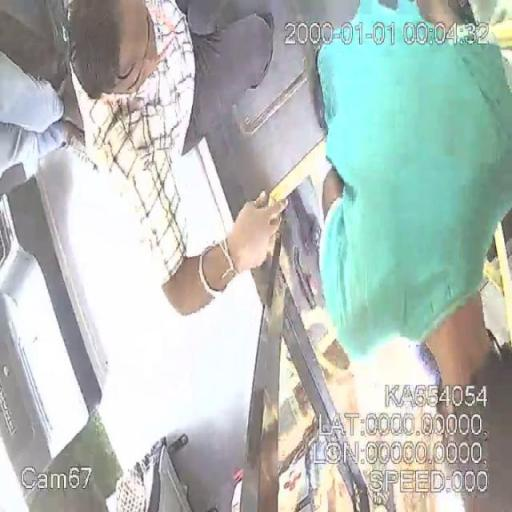persona: (313, 1, 512, 510), (64, 0, 287, 342)
